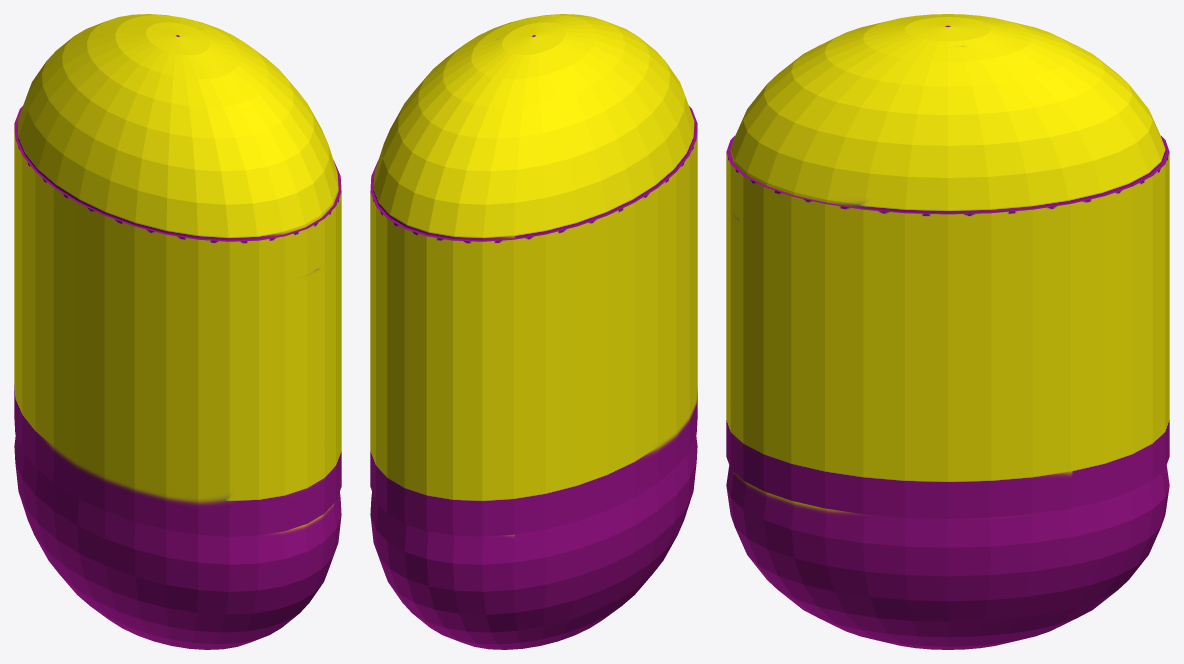
Rendered from Torso_Jugador.obj.
3 renders of one model, left to right at view 1: azimuth 30°, elevation 25°; view 2: azimuth 150°, elevation 25°; view 3: azimuth 270°, elevation 25°, orthographic. The views are drawn at different scales.
Visible parts, largest first — view 1: Torso_Jugador; view 2: Torso_Jugador; view 3: Torso_Jugador.
Boxes of the visible parts, x1,y1,x2,y2 form: Torso_Jugador: (14,14,341,649); Torso_Jugador: (370,14,697,649); Torso_Jugador: (726,14,1169,649).
Size of the model in its own units: 1.88 by 4.3 by 2.82.
1 material, 1 textured.
